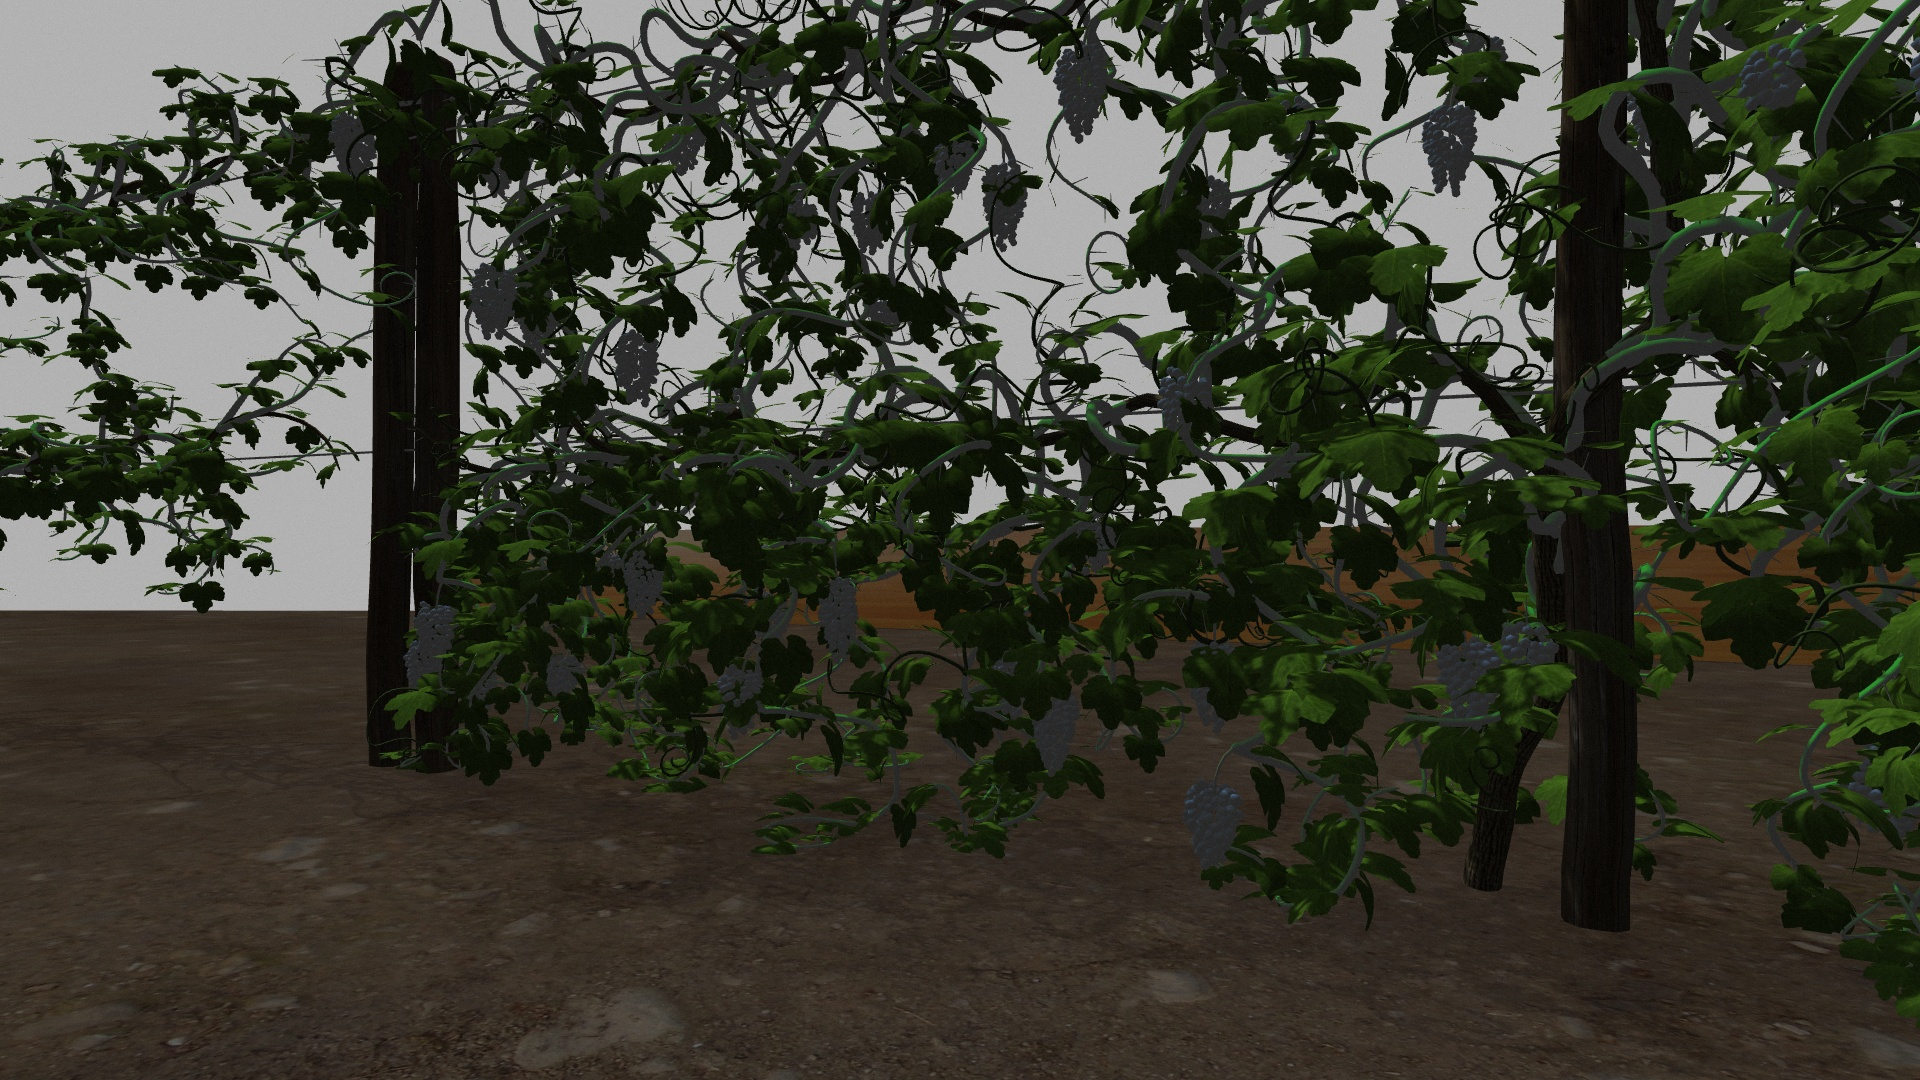grape: (1055, 40, 1114, 144), (1443, 640, 1502, 731), (1185, 782, 1240, 873), (1027, 690, 1081, 779), (978, 164, 1033, 252), (1425, 105, 1476, 199), (1158, 365, 1215, 447), (467, 261, 522, 344), (607, 328, 663, 407), (326, 112, 382, 189), (1746, 42, 1811, 108), (818, 578, 861, 657), (618, 550, 663, 618), (657, 119, 704, 175), (934, 138, 977, 198), (851, 193, 891, 255), (1503, 622, 1559, 666), (415, 603, 456, 655), (402, 649, 446, 695), (545, 650, 583, 699), (715, 665, 761, 704)
